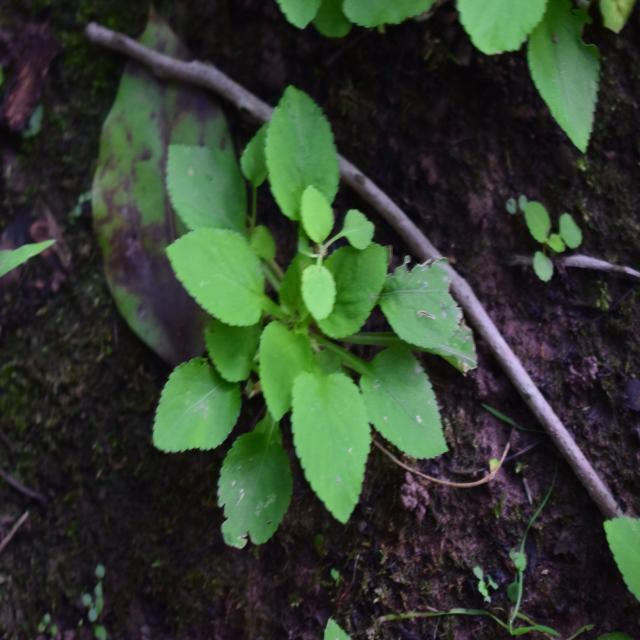Viola: (156, 90, 468, 510)
